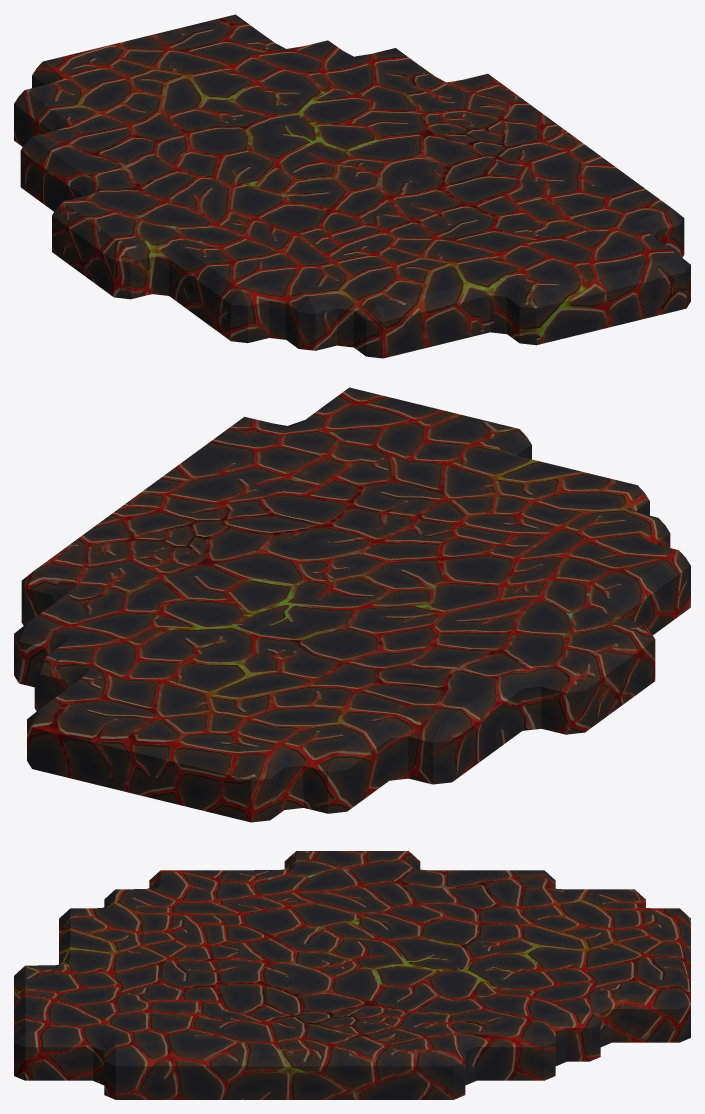
Rendered from IslandLarge2.fbx.
3 renders of one model, top to bottom at view 1: azimuth 30°, elevation 25°; view 2: azimuth 150°, elevation 25°; view 3: azimuth 270°, elevation 25°, orthographic. The views are drawn at different scales.
Parts seen in each view (by area): view 1: Island1; view 2: Island1; view 3: Island1.
Part boxes in pixels (x1=…): Island1: x1=14, y1=14, x2=690, y2=358; Island1: x1=14, y1=387, x2=690, y2=822; Island1: x1=14, y1=851, x2=690, y2=1099.
Bounding box in the file's own units: 987 × 95.8 × 1345.
